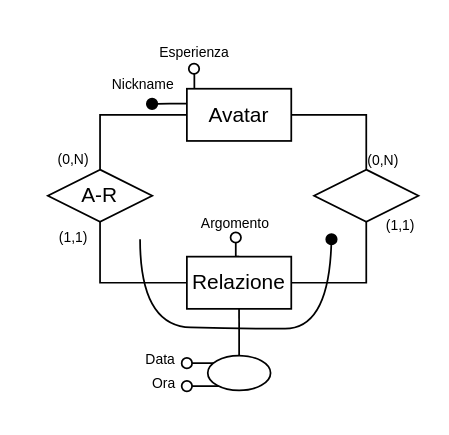
The diagram is 449 pixels wide and 435 high, and some of its shapes have lost their labels. Each missing label, with the centre of its shape:
"DataVisita" belongs at (x=238, y=372).
"R-A" belongs at (x=365, y=195).
